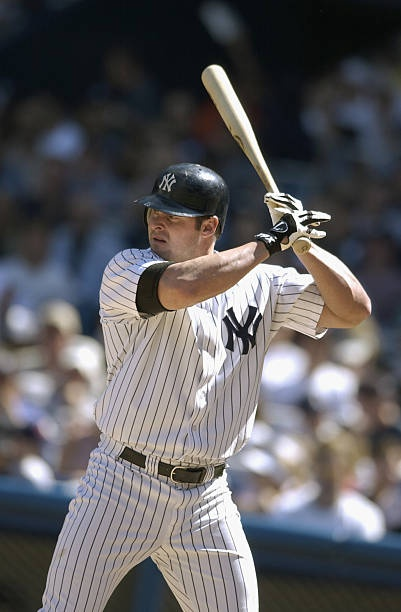bita: (204, 62, 306, 257)
